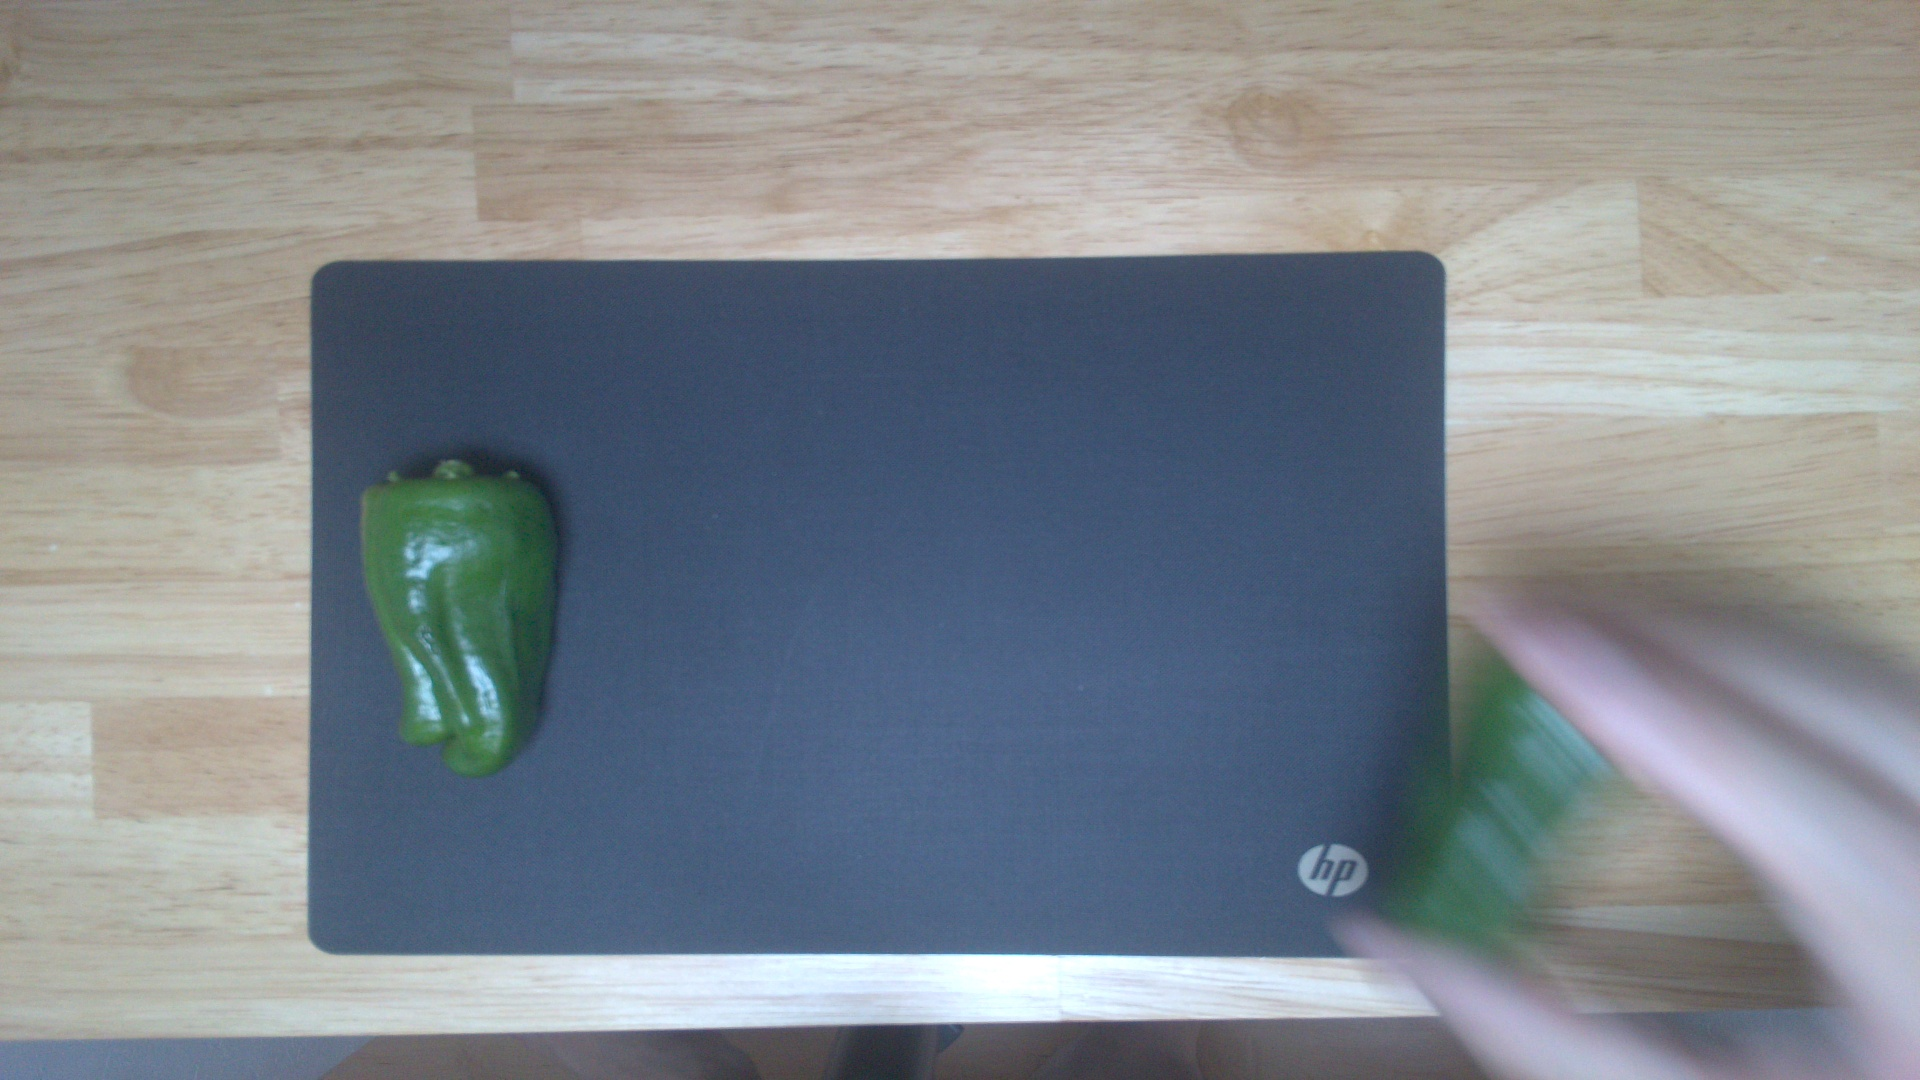Piman: (357, 456, 564, 783)
